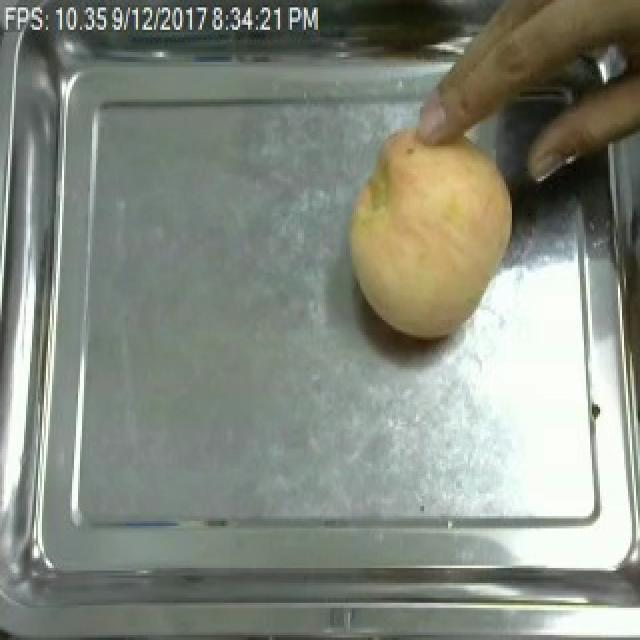Fruit: (338, 114, 522, 345)
